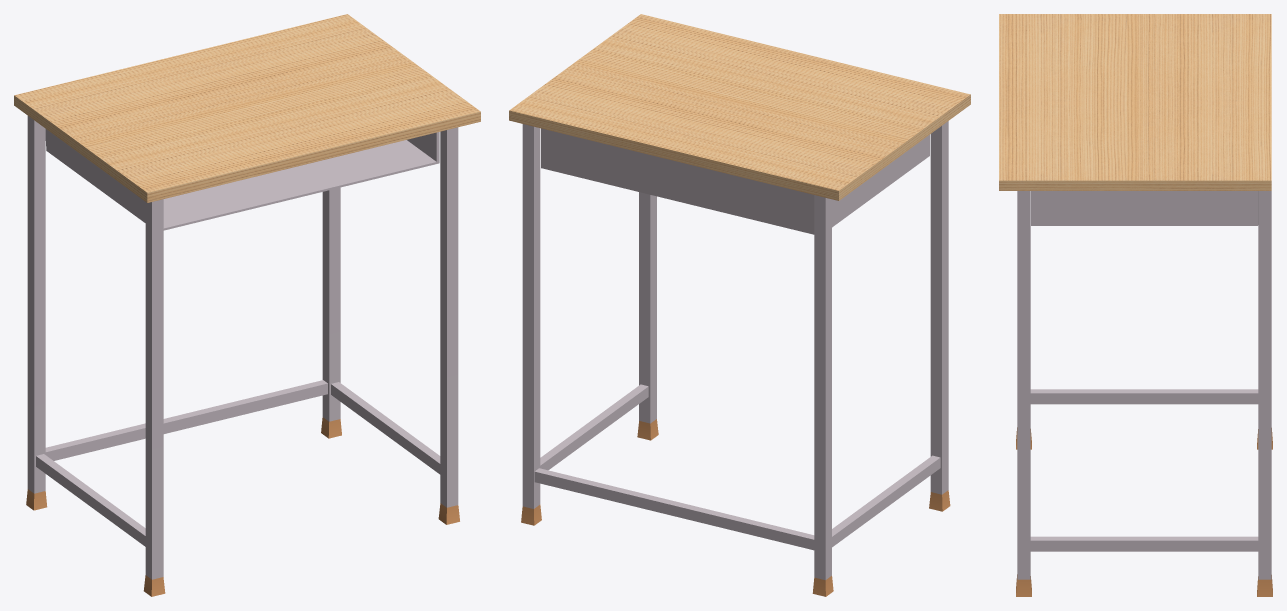
The model's file is desk.fbx.
3 views of the same model, side by side, from view 1: azimuth 30°, elevation 25°; view 2: azimuth 150°, elevation 25°; view 3: azimuth 270°, elevation 25° (orthographic). The views are drawn at different scales.
Parts seen in each view (by area): view 1: Desk; view 2: Desk; view 3: Desk.
Part boxes in pixels (box(x1,y1,x2,y2)): Desk: box(14, 14, 480, 596); Desk: box(509, 14, 970, 596); Desk: box(999, 14, 1272, 596).
Bounding box in the file's own units: 65 × 76.95 × 45.2.
Materials: 1 (1 with a texture image).
